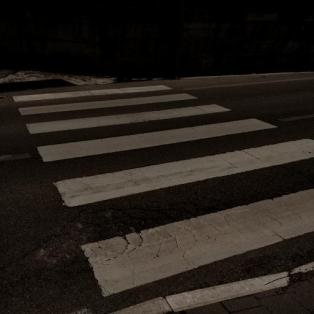Paso de Cebra: (22, 101, 281, 171)
